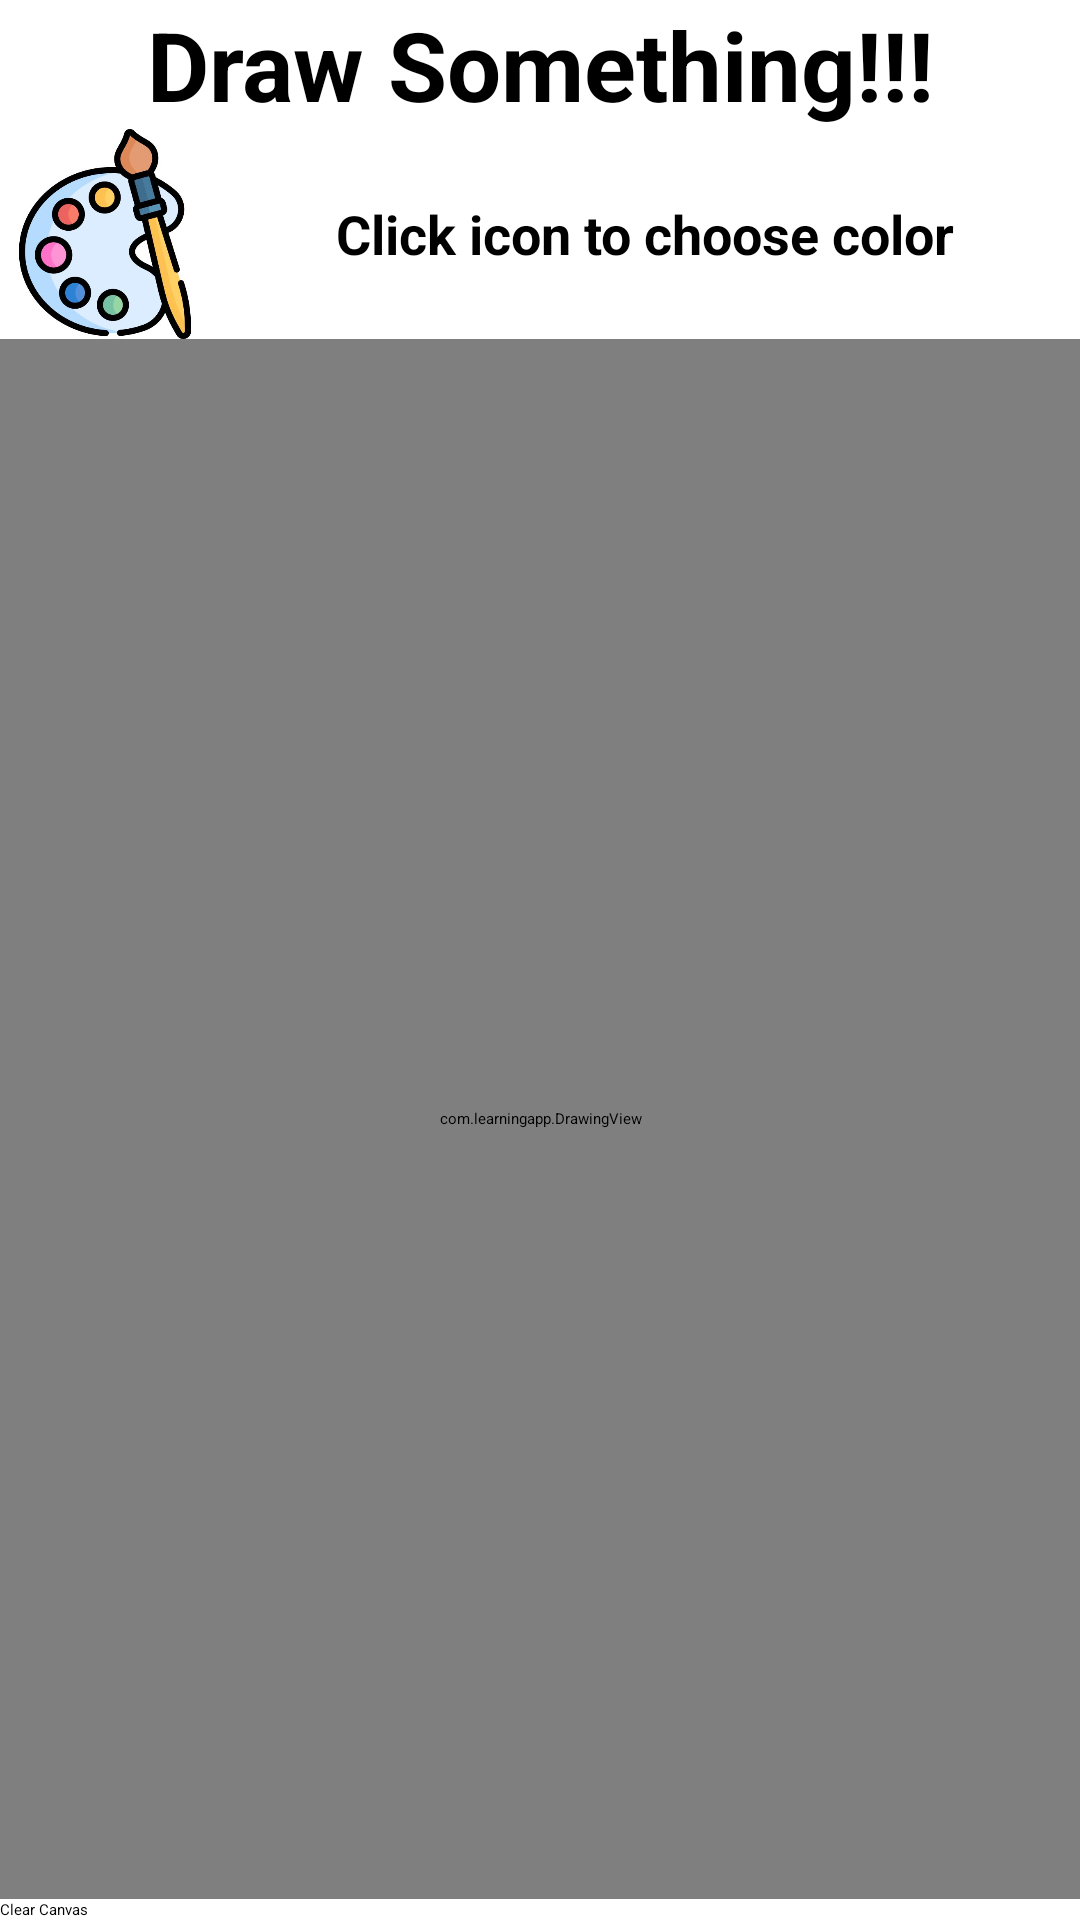

Screen size 1080×1920. Icon name, then its center in pixels as (x,y):
Color Picker: (105,234)
